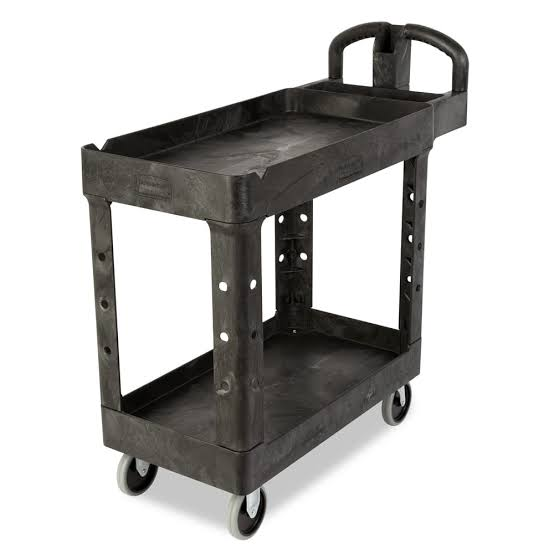Carts: (77, 19, 471, 538)
